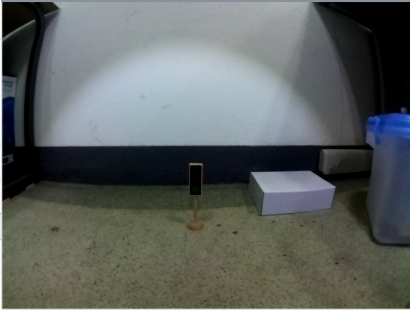Green: (187, 164, 206, 200)
